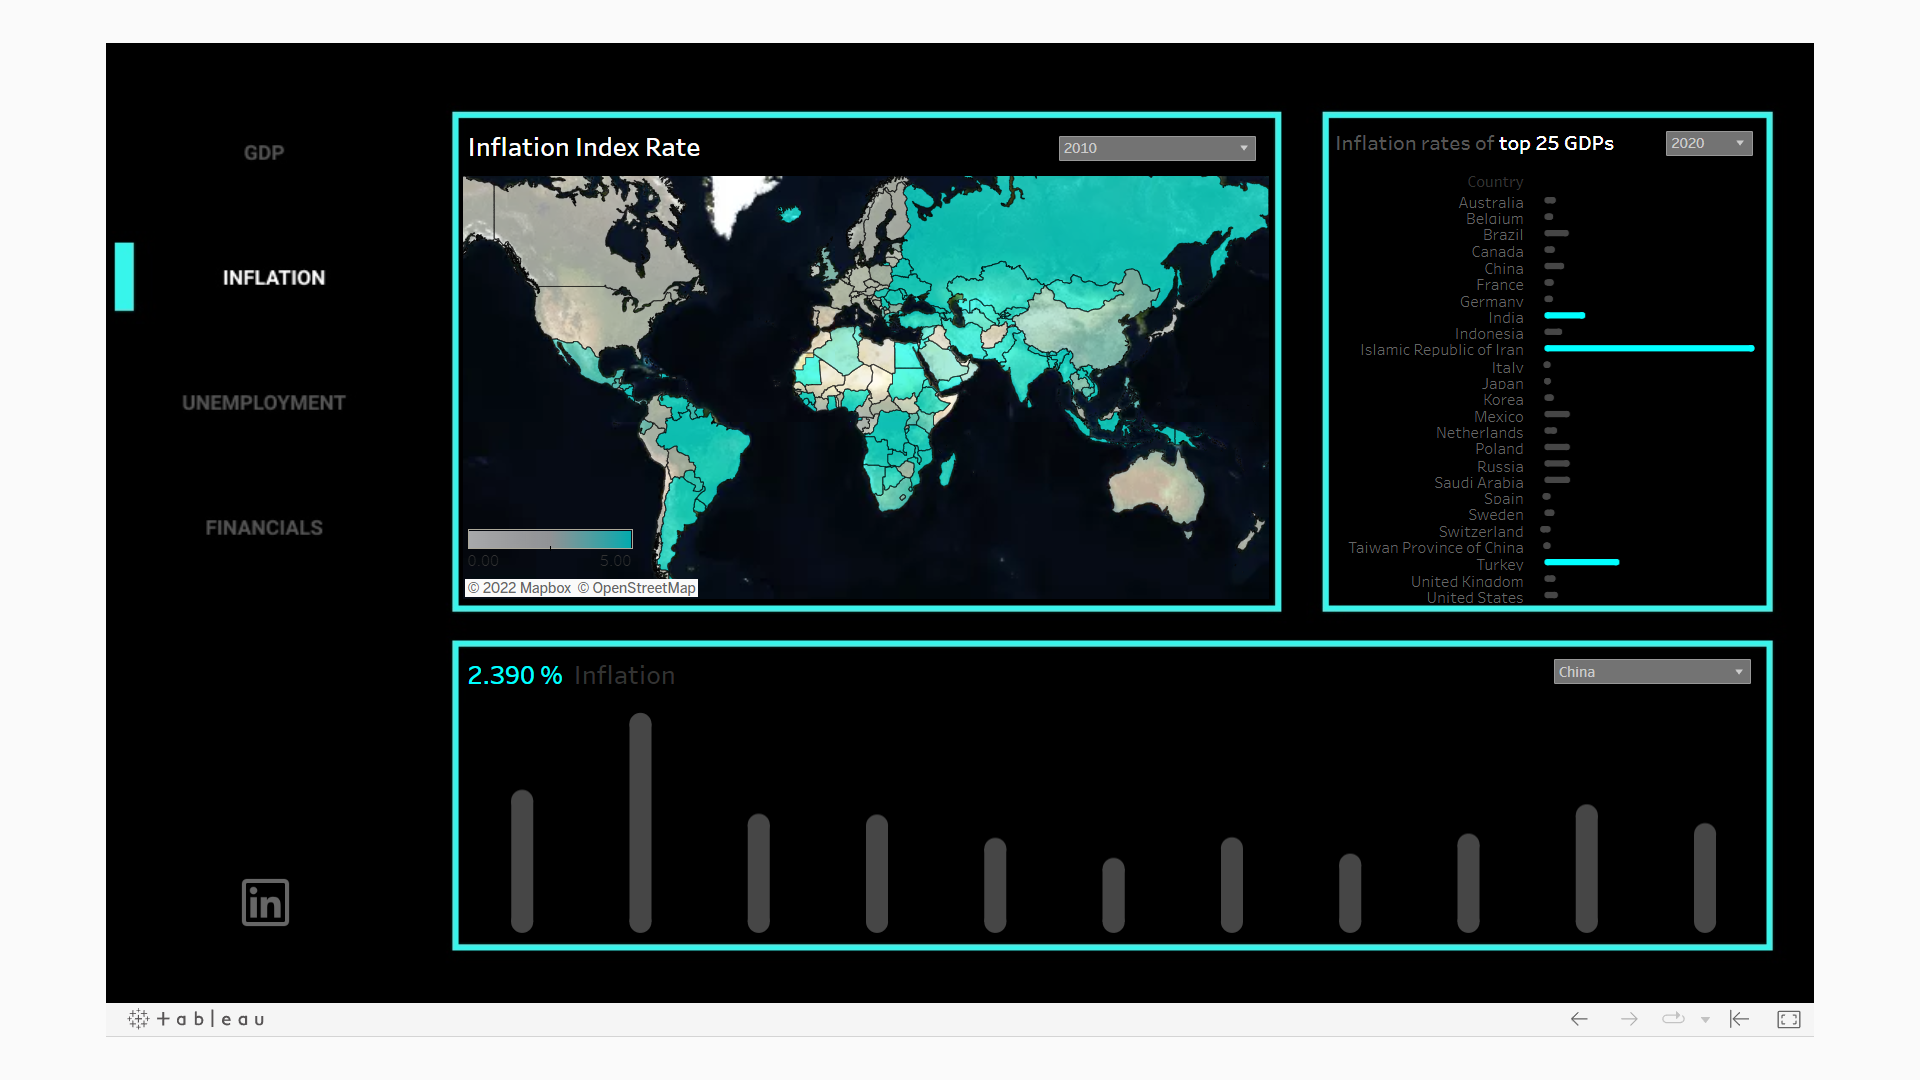

The page's visual inventory and layout, read from the dashboard file:
{"tool":"tableau","page":{"name":"D I","canvas":[1366,768],"ordinal":2},"visuals":[{"type":"image","param":"Image/Untitled (16).png","box":[0,0,1366,768]},{"type":"worksheet","title":"ii wm","mark":"Automatic","box":[286,54,683,415]},{"type":"worksheet","title":"25 ii%","mark":"Line","rows":["Country"],"box":[1025,56,286,409]},{"type":"filter","title":"ii wm","param":"[federated.1pbcbfl167dzzd11zpglr01z2mg7].[:Measure Names]","box":[803,62,160,26]},{"type":"filter","title":"25 ii%","param":"[federated.0fttgik1yni9381aqvphi19kebv8].[yr:Pivot Field Names:ok]","box":[1191,69,111,21]},{"type":"dashboard-object","box":[11,157,203,54]},{"type":"dashboard-object","box":[12,378,202,56]},{"type":"dashboard-object","box":[9,490,204,54]},{"type":"worksheet","title":"ii bc","mark":"Line","cols":["Pivot Field Names"],"box":[288,524,1022,204]},{"type":"filter","title":"ii bc","param":"[federated.0fttgik1yni9381aqvphi19kebv8].[none:Country:nk]","box":[1143,532,160,31]}]}

Visuals, with their boxes on the page's 1366x768 design canvas (x1, y1, x2, y2). These are canvas units, not pixel positions in the 1920x1080 screenshot, which may show the page scaled, cropped or inside an application window:
image: bbox(0, 0, 1366, 768)
"ii wm" worksheet: bbox(286, 54, 969, 469)
"25 ii%" worksheet (Line marks): bbox(1025, 56, 1311, 465)
"ii wm" filter: bbox(803, 62, 963, 88)
"25 ii%" filter: bbox(1191, 69, 1302, 90)
dashboard-object: bbox(11, 157, 214, 211)
dashboard-object: bbox(12, 378, 214, 434)
dashboard-object: bbox(9, 490, 213, 544)
"ii bc" worksheet (Line marks): bbox(288, 524, 1310, 728)
"ii bc" filter: bbox(1143, 532, 1303, 563)
